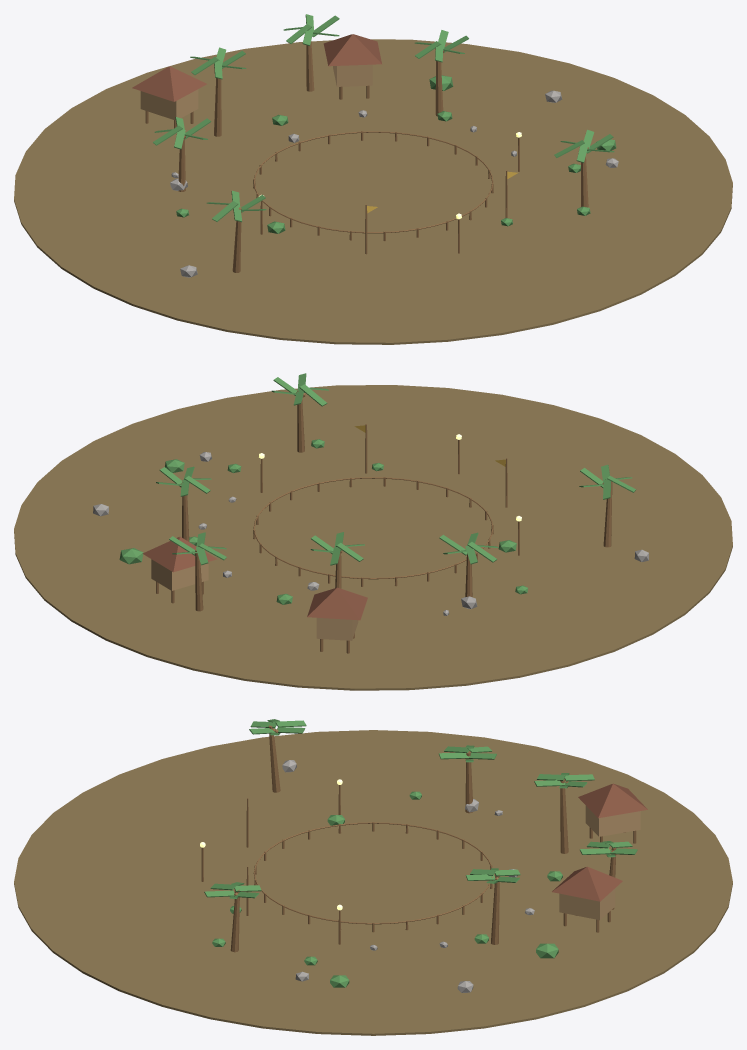
Rendered from gasing_env.glb.
The picture shows the model from 3 angles, top to bottom: view 1: azimuth 30°, elevation 25°; view 2: azimuth 150°, elevation 25°; view 3: azimuth 270°, elevation 25°; orthographic projection.
Visible parts, largest first — view 1: EnvEarth, EnvPalms, EnvHouses, EnvBushes, EnvRail, EnvRocks, EnvFence; view 2: EnvEarth, EnvPalms, EnvHouses, EnvBushes, EnvRail, EnvRocks, EnvFence; view 3: EnvEarth, EnvPalms, EnvHouses, EnvBushes, EnvRail, EnvRocks, EnvFence.
Boxes of the visible parts, x1,y1,x2,y2 form: EnvEarth: [14, 39, 732, 344]; EnvPalms: [153, 14, 614, 272]; EnvHouses: [132, 34, 381, 128]; EnvBushes: [176, 75, 616, 233]; EnvRail: [253, 131, 493, 233]; EnvRocks: [170, 90, 618, 277]; EnvFence: [253, 131, 493, 241]; EnvEarth: [14, 385, 732, 690]; EnvPalms: [156, 373, 636, 611]; EnvHouses: [142, 536, 367, 653]; EnvBushes: [119, 439, 528, 604]; EnvRail: [253, 477, 493, 579]; EnvRocks: [93, 452, 648, 615]; EnvFence: [253, 477, 493, 586]; EnvEarth: [14, 730, 732, 1035]; EnvPalms: [204, 719, 637, 952]; EnvHouses: [552, 783, 647, 932]; EnvBushes: [212, 791, 562, 987]; EnvRail: [253, 822, 492, 924]; EnvRocks: [282, 760, 534, 992]; EnvFence: [254, 822, 492, 932].
Bounding box in the file's own units: 32 × 3.93 × 32.
